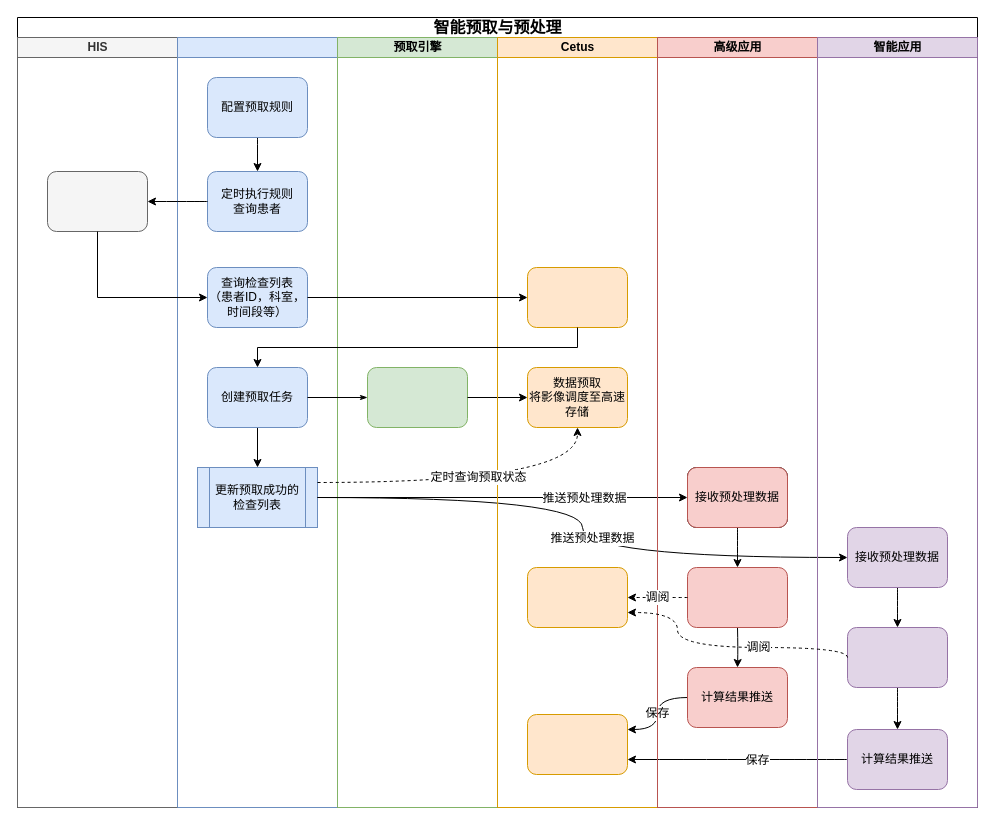
The diagram is 995 pixels wide and 825 high, and some of its shapes have lost their labels. Each missing label, with the box of its shape:
保存计算结果: (526, 714, 628, 774)
执行预取任务: (366, 366, 468, 428)
数据调阅: (526, 566, 628, 628)
新增患者 预约患者 在院患者: (46, 170, 148, 232)
智能应用计算: (846, 626, 948, 688)
根据患者ID等条件返回检查列表: (526, 266, 628, 328)
预取管理: (176, 36, 338, 808)
高级应用计算: (686, 566, 788, 628)
